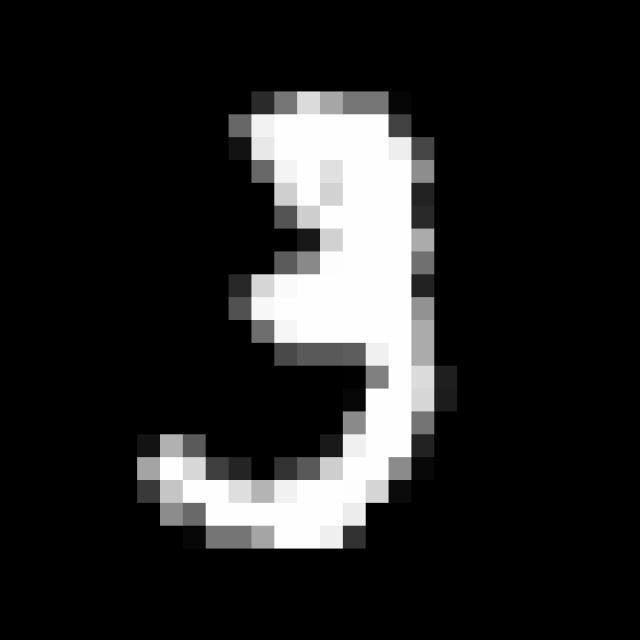three -3-: (121, 76, 460, 576)
